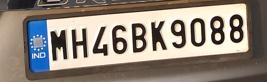0: (189, 18, 207, 48)
4: (91, 25, 110, 59)
6: (112, 25, 130, 58)
8: (228, 12, 246, 45), (210, 15, 226, 47)
9: (167, 20, 189, 48)
B: (130, 21, 148, 54)
H: (69, 25, 91, 62)
K: (149, 20, 169, 54)
M: (47, 28, 72, 65)
